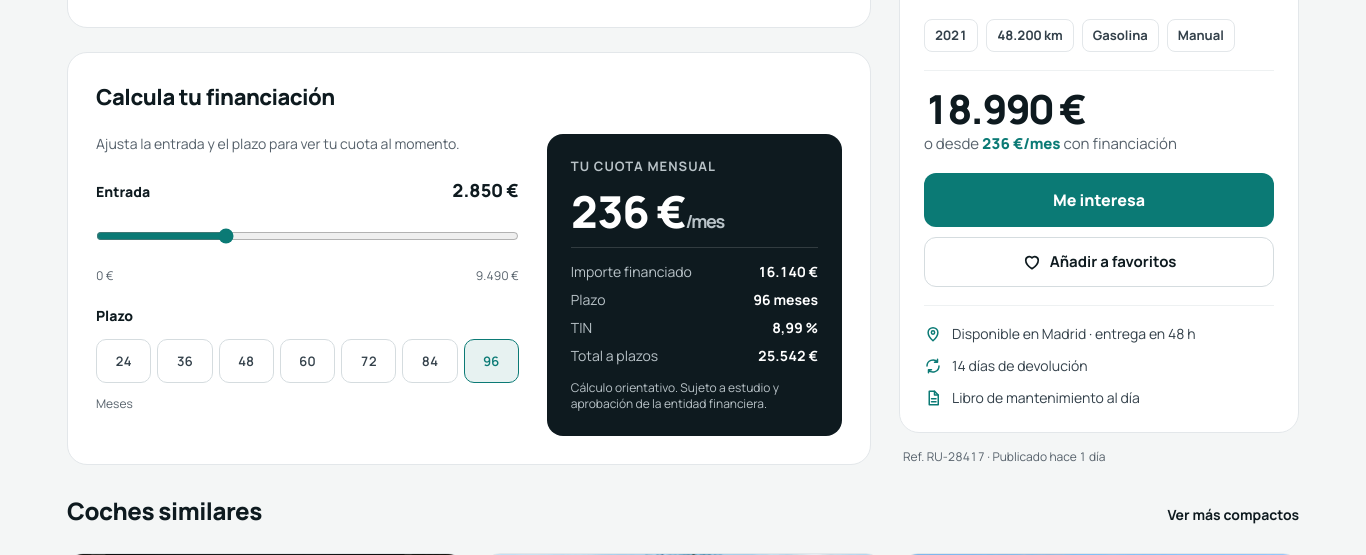
Scenario: CarDetailPage › la calculadora recalcula la cuota al cambiar plazo y entrada
(page scrolled)
expect the slider labelled "Entrada" holds "2850": met, box [96,214,519,258]
Step 1. Click the button named "48 meses" → (246, 361), box [218,339,274,383]
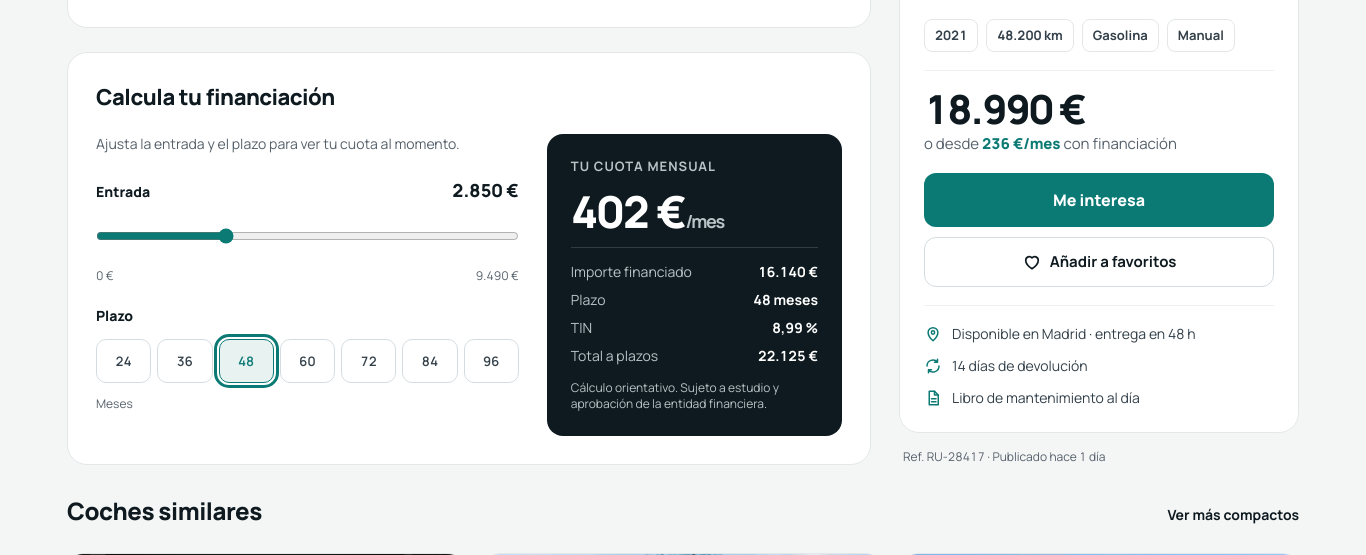
Step 2. Set the slider labelled "Entrada" to "9000" → (490, 236), box [96,214,519,258]
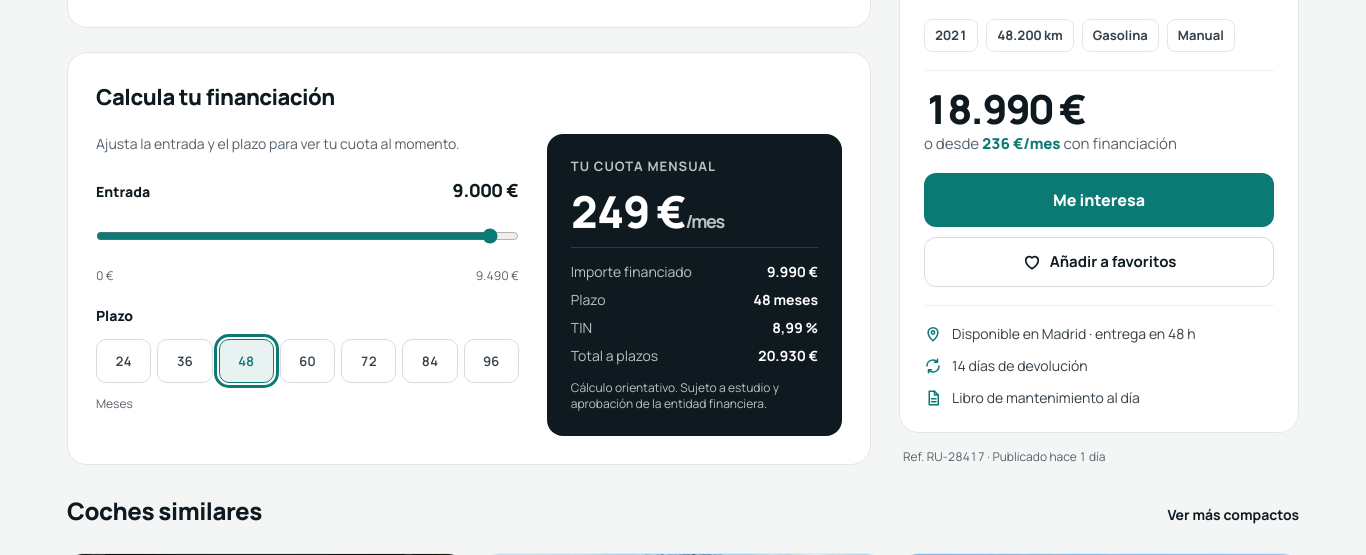
expect the text "9.990 €" is shown: met, box [767,262,818,282]
